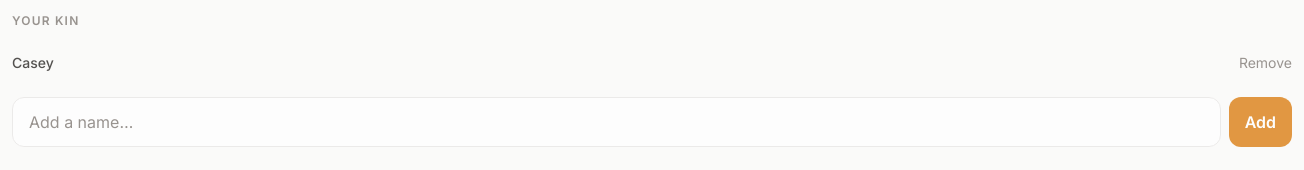
it: KinList › rename › updates the displayed name after saving
This screenshot has width=1304, height=170.
// when — click the name to enter edit mode, then save with a new name
Click the button "Casey". click: click(33, 62)
box: [12,47,1227,79]
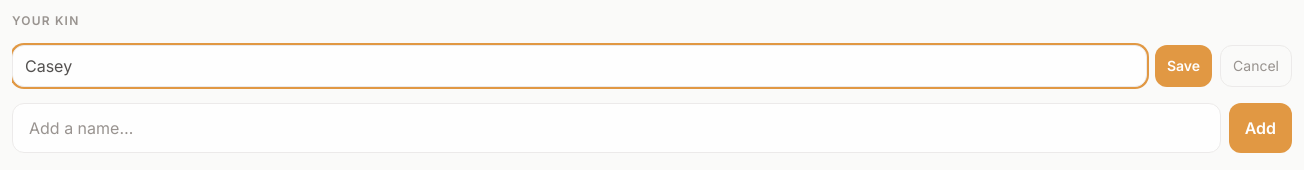
Replace the text in the field showing "Casey" with "Zara". click: (579, 66)
box: [12,45,1147,87]
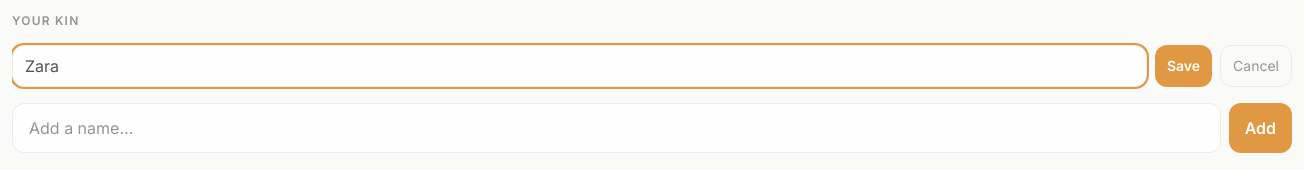
Click the button "Save". click: click(1184, 66)
box: [1155,45,1212,87]
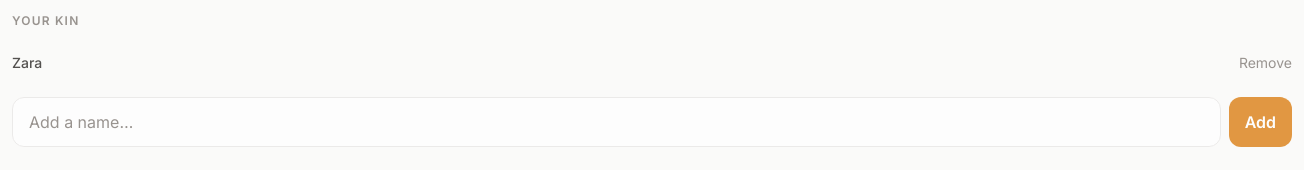
Check: the button "Casey" is not shown
Check: the button "Zara" is shown, box [12,47,1227,79]
